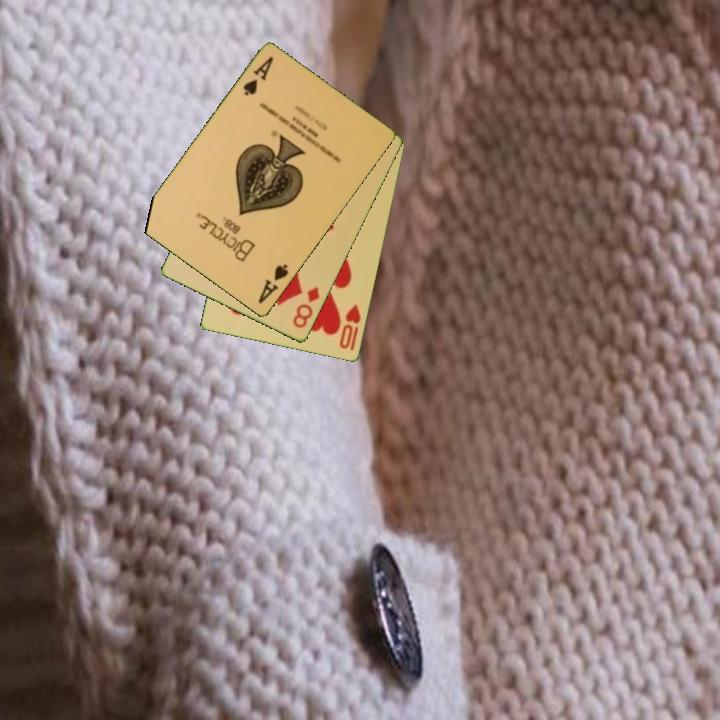10h: (336, 301, 364, 352)
8d: (289, 283, 323, 331)
As: (255, 261, 292, 307), (240, 53, 277, 99)
